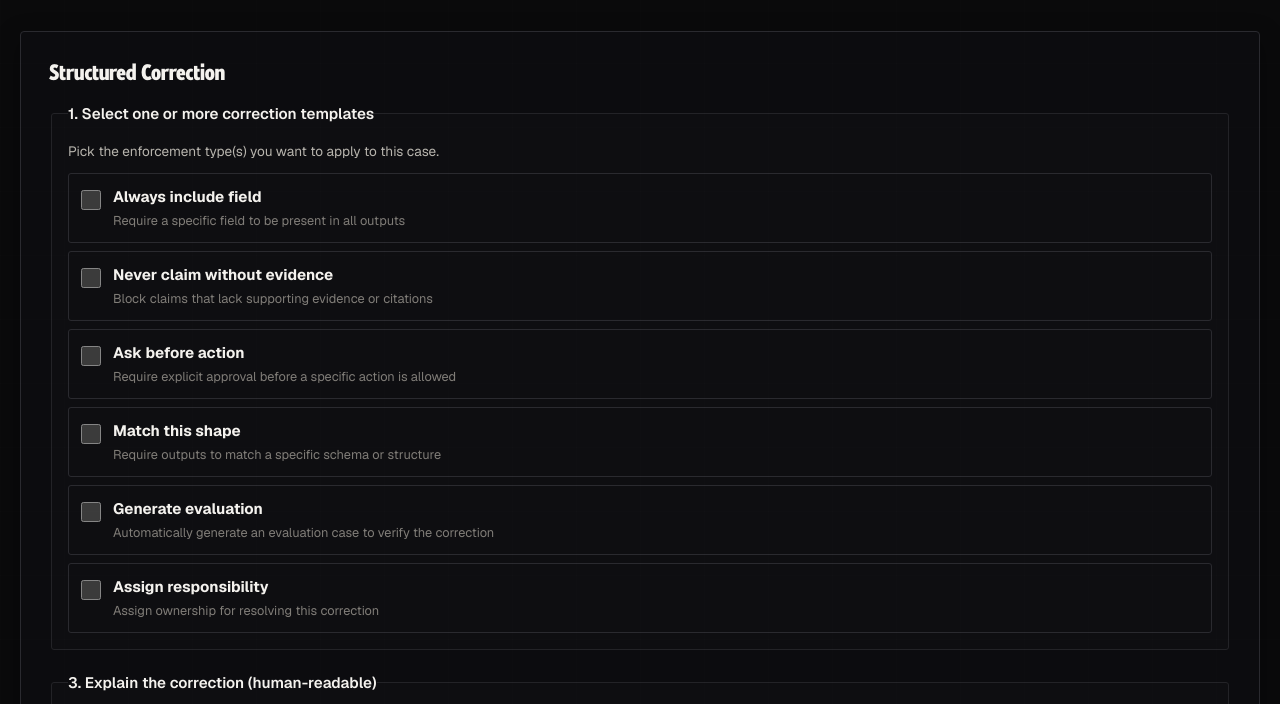
Test case: CorrectionTemplateForm › field validation › shows error when required template field is empty
Click the checkbox labelled "Always include field" at (91, 200), box top-left (81, 190), bottom-right (101, 210)
(page scrolled)
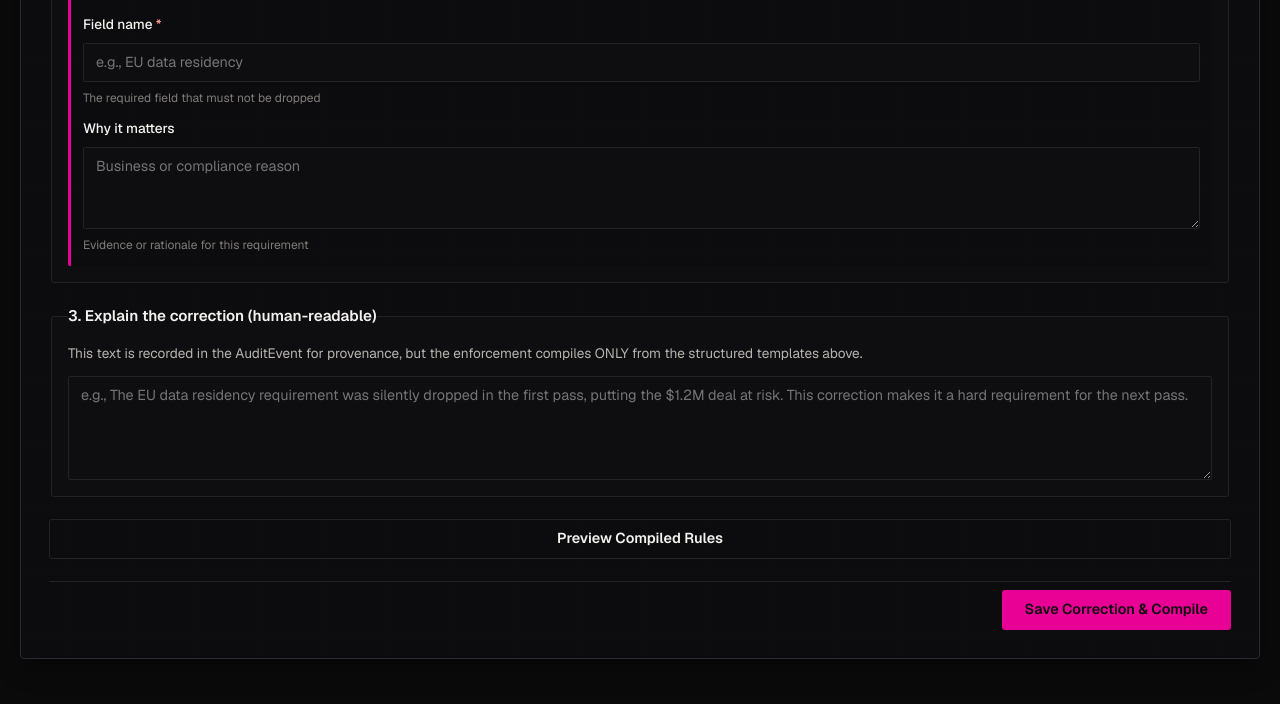
Replace the text in the text box with placeholder "The EU data residency" with "Test reason" at (640, 428), box top-left (68, 376), bottom-right (1212, 480)
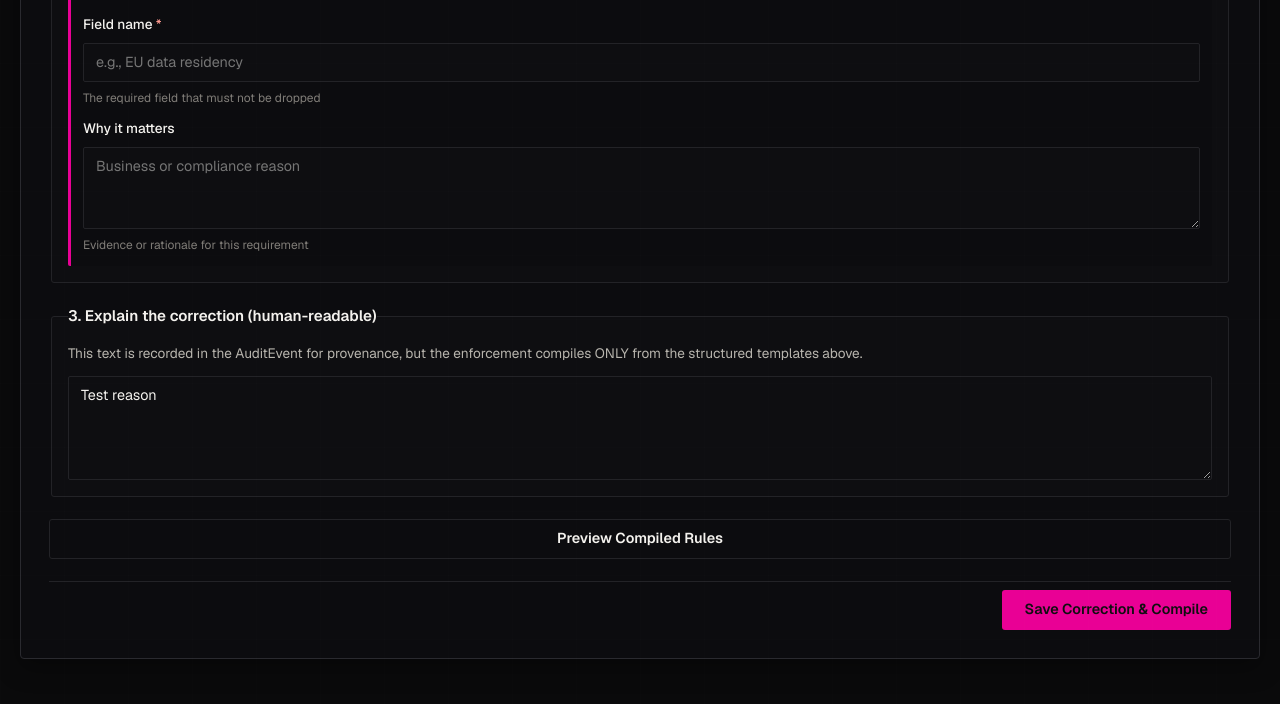
Click the button "Save Correction & Compile" at (1116, 610), box top-left (1002, 590), bottom-right (1231, 630)
(page scrolled)
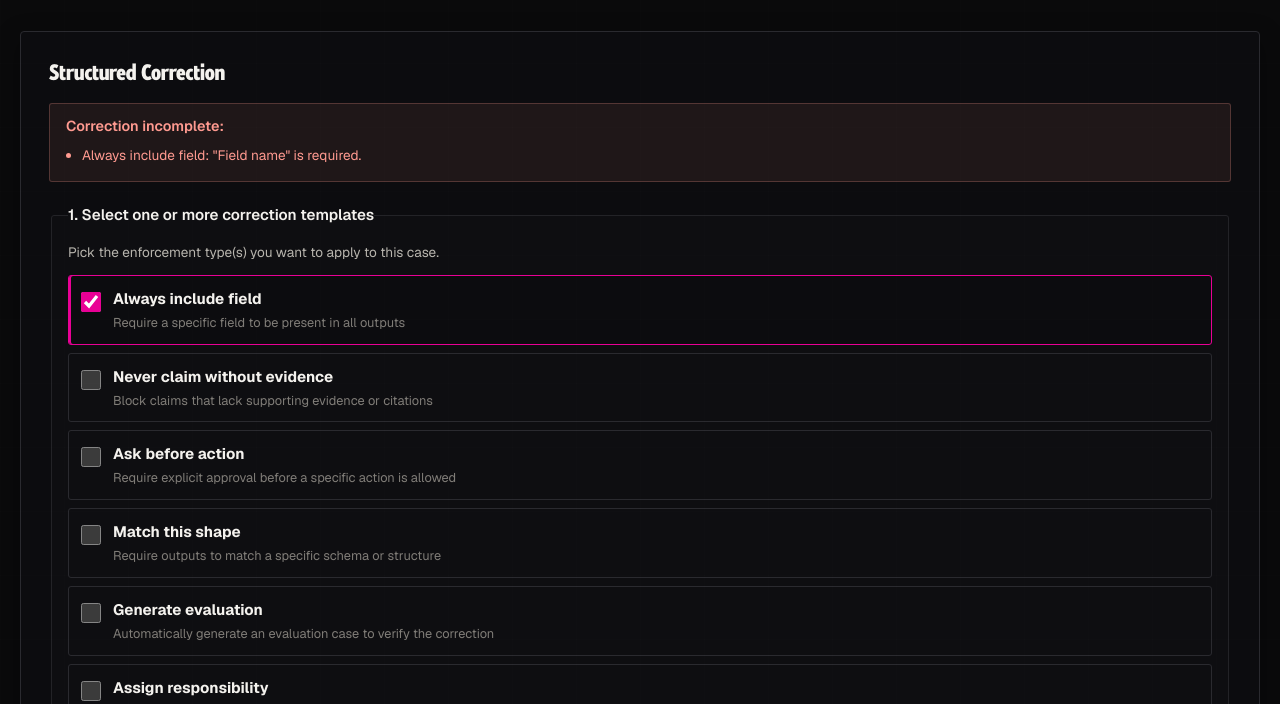
Now the list item "Always include field: \"Field name\" is required." is shown, box top-left (82, 146), bottom-right (361, 164)
